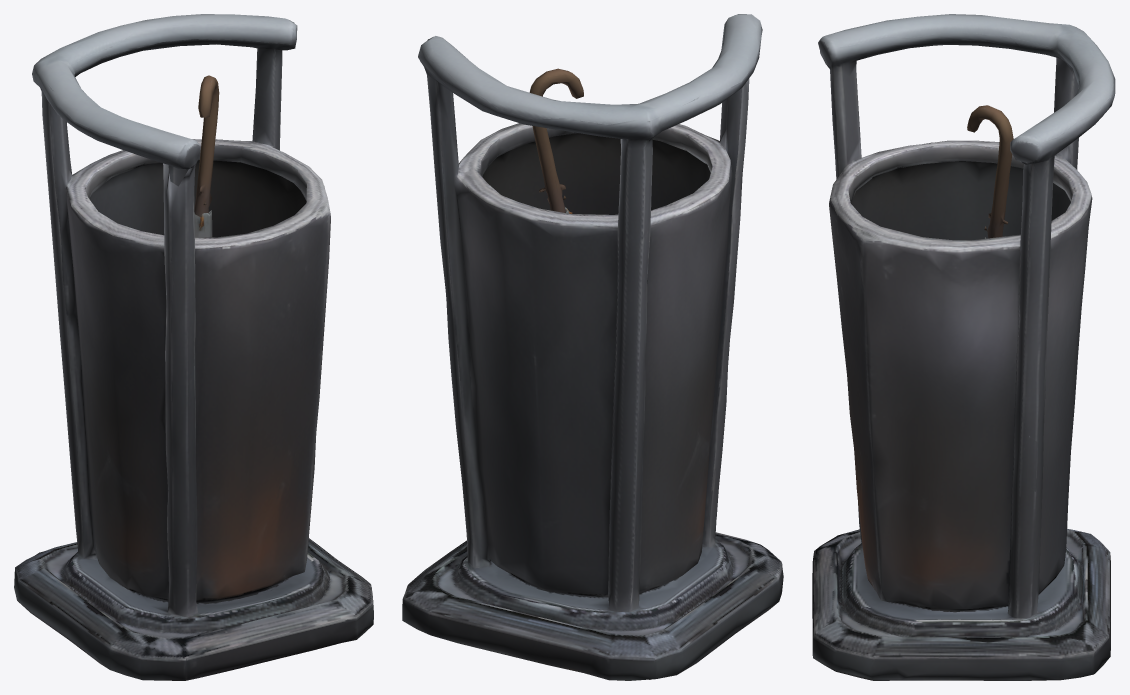
The model's file is foyer_UmbrellaStand.glb.
3 views of the same model, side by side, from view 1: azimuth 30°, elevation 25°; view 2: azimuth 150°, elevation 25°; view 3: azimuth 270°, elevation 25° (orthographic). The views are drawn at different scales.
Parts seen in each view (by area): view 1: world; view 2: world; view 3: world.
Boxes of the visible parts, box(x1,y1,x2,y2) form: world: box(14, 14, 373, 680); world: box(402, 14, 783, 680); world: box(812, 14, 1115, 680).
Size of the model in its own units: 0.5164 by 1 by 0.5063.
Materials: 1 (1 with a texture image).
